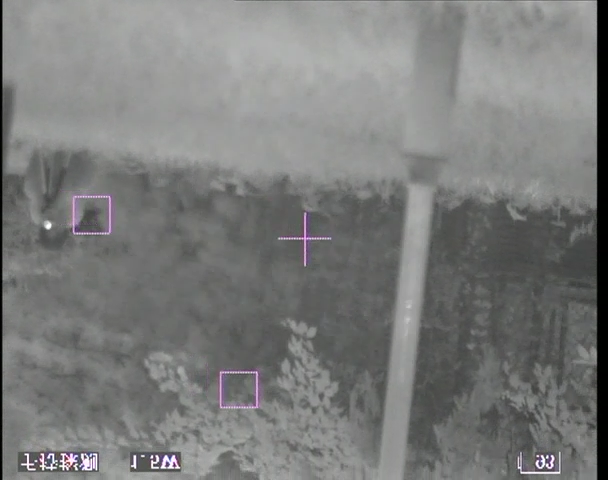my: (41, 221, 54, 232)
